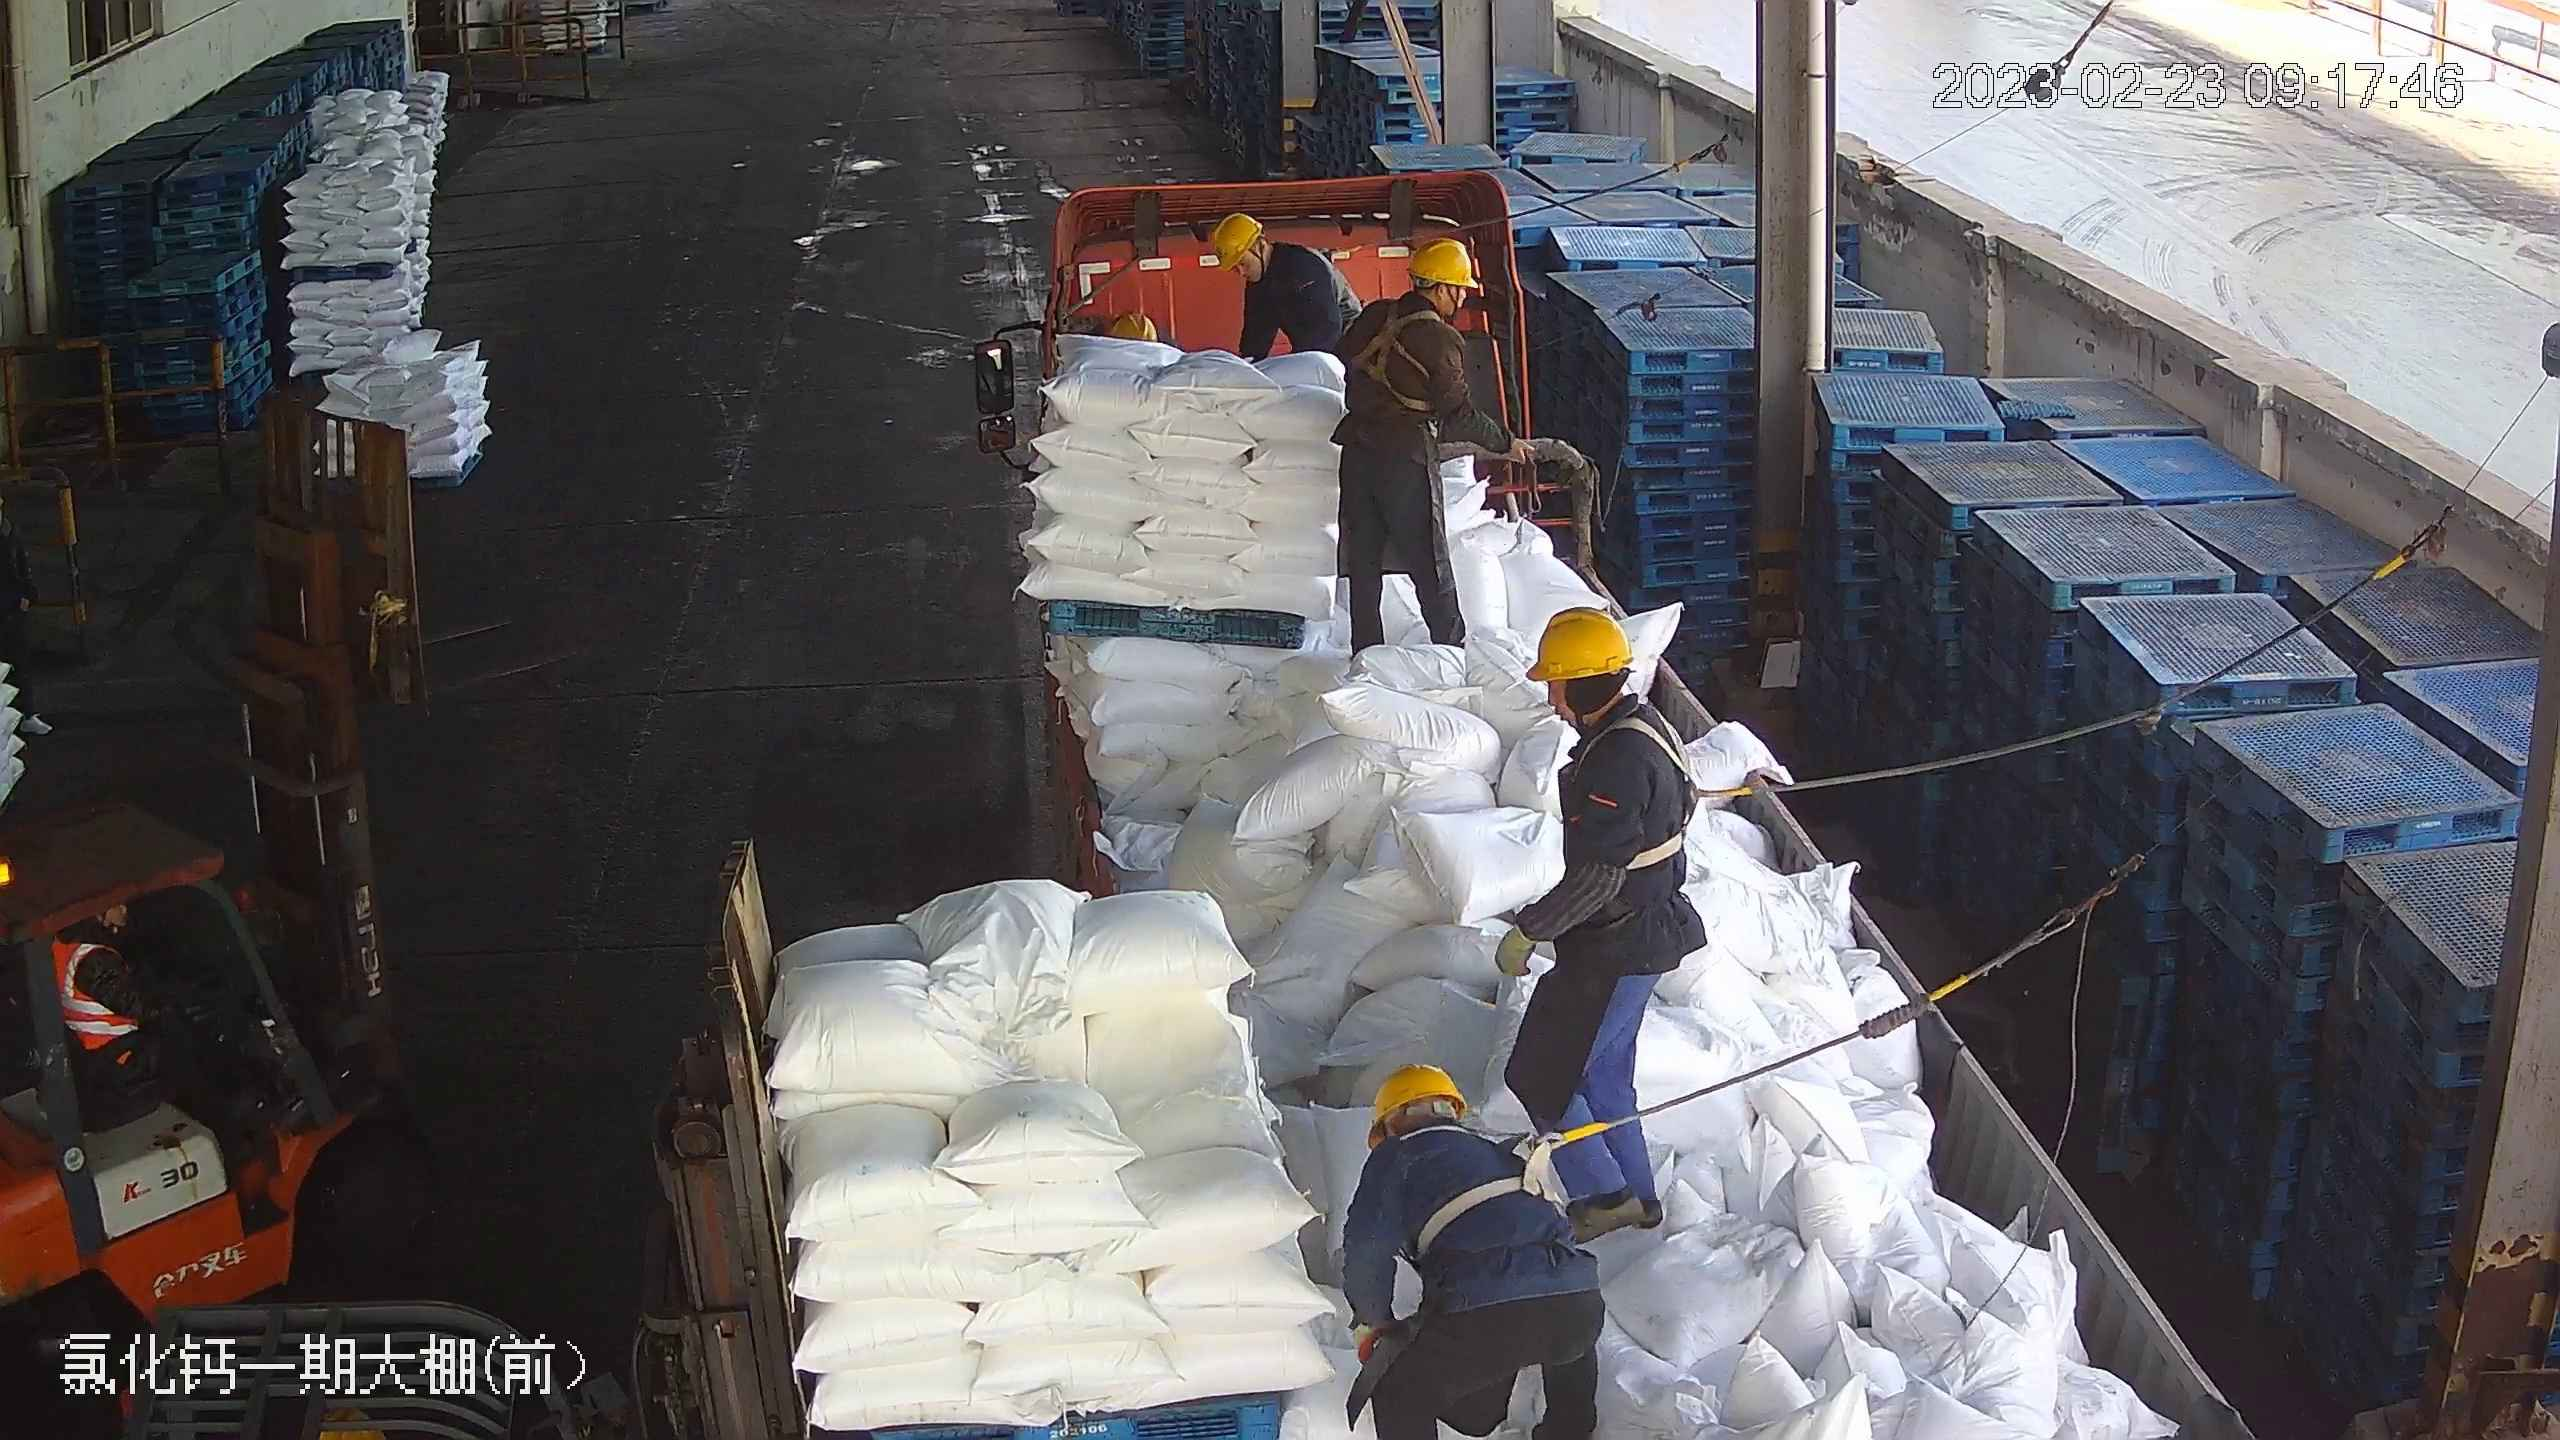belt: (1589, 709, 1756, 869), (1425, 1110, 1590, 1242), (1347, 305, 1441, 411), (1306, 232, 1383, 274)
head: (1522, 606, 1686, 804), (1350, 1060, 1521, 1206), (1368, 242, 1481, 377)
helmet: (1522, 605, 1634, 680), (1363, 1060, 1465, 1134), (1406, 234, 1479, 288), (1204, 210, 1266, 267)
people: (1490, 601, 1709, 1243), (1335, 1068, 1597, 1438), (1340, 236, 1523, 656), (45, 906, 267, 1138)
truck: (963, 163, 2262, 1415)
